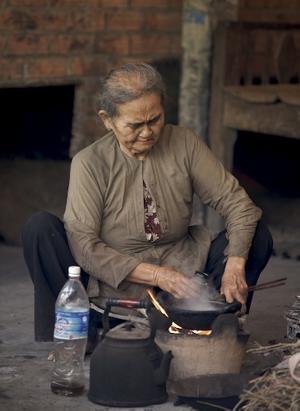person: (25, 60, 276, 343)
